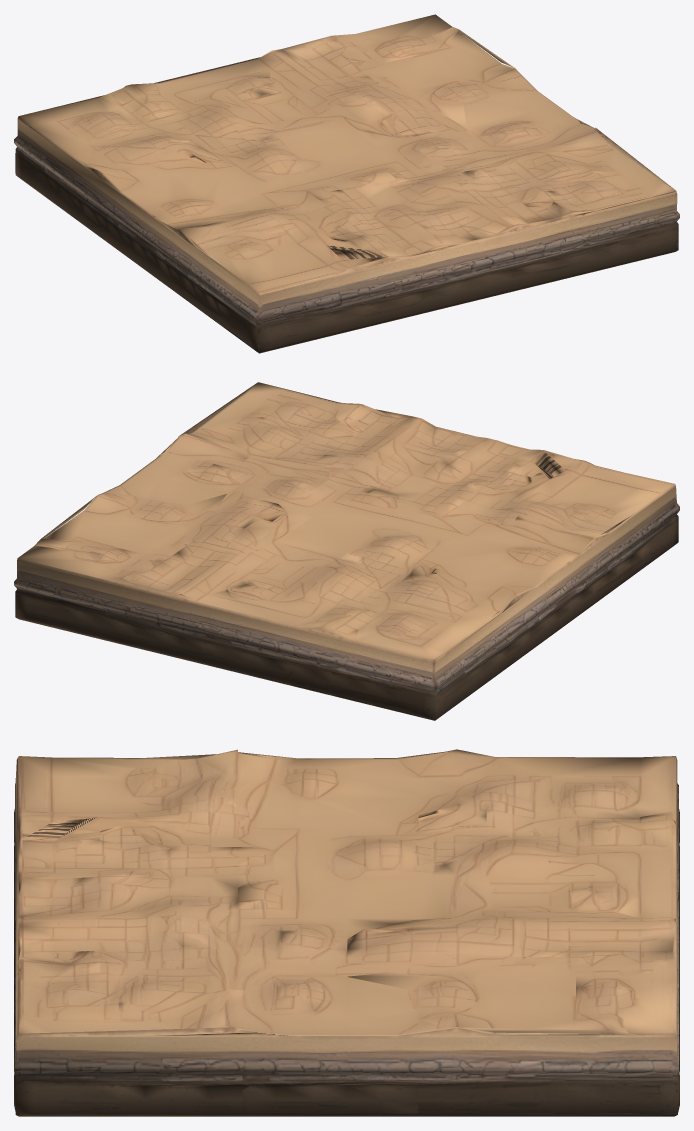
Rendered from piso de arena.fbx.
The picture shows the model from 3 angles, top to bottom: view 1: azimuth 30°, elevation 25°; view 2: azimuth 150°, elevation 25°; view 3: azimuth 270°, elevation 25°; orthographic projection. The views are drawn at different scales.
Visible parts, largest first — view 1: mesh_rep_0_ori_repair_quad; view 2: mesh_rep_0_ori_repair_quad; view 3: mesh_rep_0_ori_repair_quad.
Part boxes in pixels (x1,y1,x2,y2): mesh_rep_0_ori_repair_quad: (14, 14, 679, 353); mesh_rep_0_ori_repair_quad: (14, 382, 679, 720); mesh_rep_0_ori_repair_quad: (14, 749, 679, 1116).
Bounding box in the file's own units: 713 × 111 × 713.
1 material, 1 textured.
